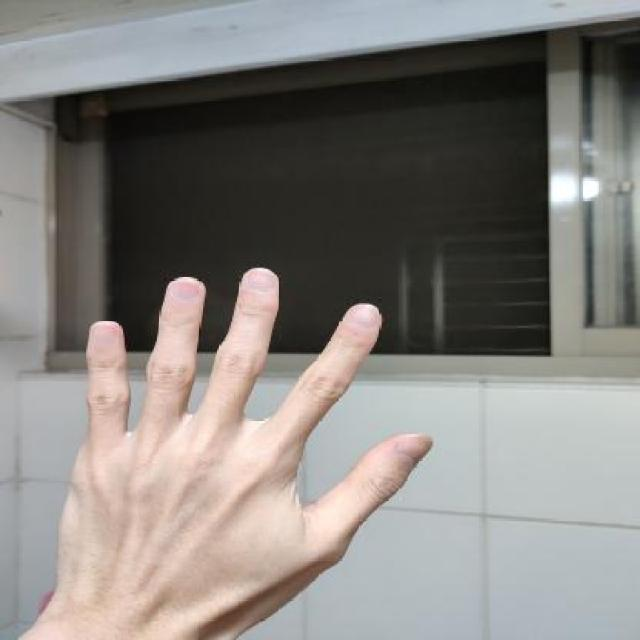no_glove: (31, 251, 435, 640)
